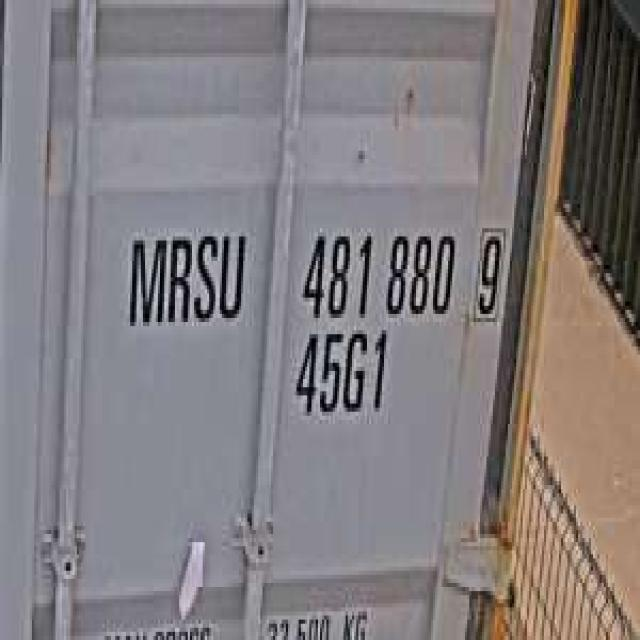dv: (469, 216, 510, 328)
owner: (120, 216, 250, 334)
serial: (294, 216, 459, 326)
size: (290, 322, 395, 428)
